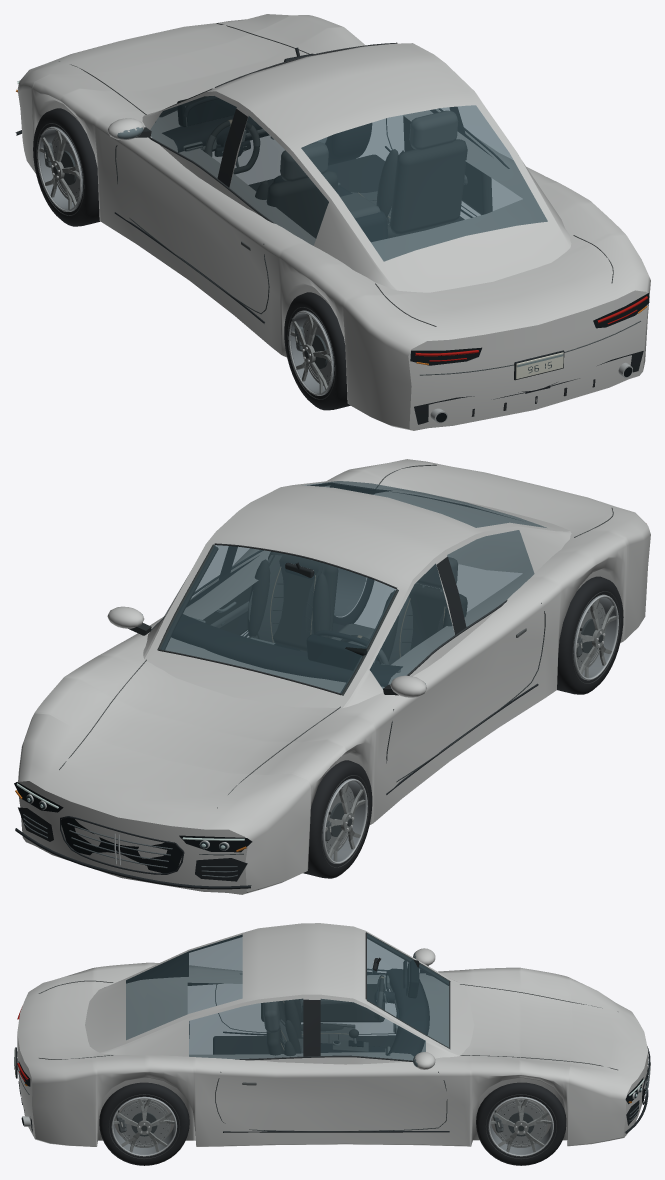
The model's file is kessel-r4.glb.
3 views of the same model, one above another, from view 1: azimuth 30°, elevation 25°; view 2: azimuth 150°, elevation 25°; view 3: azimuth 270°, elevation 25° (orthographic). The views are drawn at different scales.
Visible parts, largest first — view 1: paint, glass, wheelSurface (×3), SeatUpholstery, trim, CabinMouldings, CabinLeather, SteeringLeather; view 2: paint, glass, trim, wheelSurface (×3), SeatUpholstery, CabinMouldings, CabinLeather; view 3: paint, glass, wheelSurface (×2), trim, CabinMouldings, SeatUpholstery, CabinLeather, CockpitHardware.
Part boxes in pixels (x1=…): paint: x1=17, y1=14, x2=650, y2=430; glass: x1=117, y1=96, x2=547, y2=261; wheelSurface (×3): x1=33, y1=108, x2=371, y2=410; SeatUpholstery: x1=255, y1=111, x2=467, y2=238; trim: x1=15, y1=23, x2=649, y2=424; CabinMouldings: x1=162, y1=47, x2=464, y2=241; CabinLeather: x1=203, y1=116, x2=492, y2=217; SteeringLeather: x1=205, y1=119, x2=259, y2=173; paint: x1=18, y1=459, x2=650, y2=894; glass: x1=142, y1=481, x2=546, y2=693; trim: x1=14, y1=464, x2=613, y2=889; wheelSurface (×3): x1=303, y1=568, x2=623, y2=878; SeatUpholstery: x1=247, y1=551, x2=467, y2=664; CabinMouldings: x1=171, y1=562, x2=402, y2=686; CabinLeather: x1=203, y1=585, x2=374, y2=646; paint: x1=17, y1=923, x2=648, y2=1146; glass: x1=126, y1=933, x2=449, y2=1066; wheelSurface (×2): x1=99, y1=1082, x2=566, y2=1165; trim: x1=14, y1=932, x2=650, y2=1133; CabinMouldings: x1=213, y1=957, x2=429, y2=1056; SeatUpholstery: x1=263, y1=999, x2=354, y2=1055; CabinLeather: x1=261, y1=984, x2=396, y2=1052; CockpitHardware: x1=331, y1=962, x2=409, y2=1055.
Bounding box in the file's own units: 2.08 × 1.38 × 4.83.
